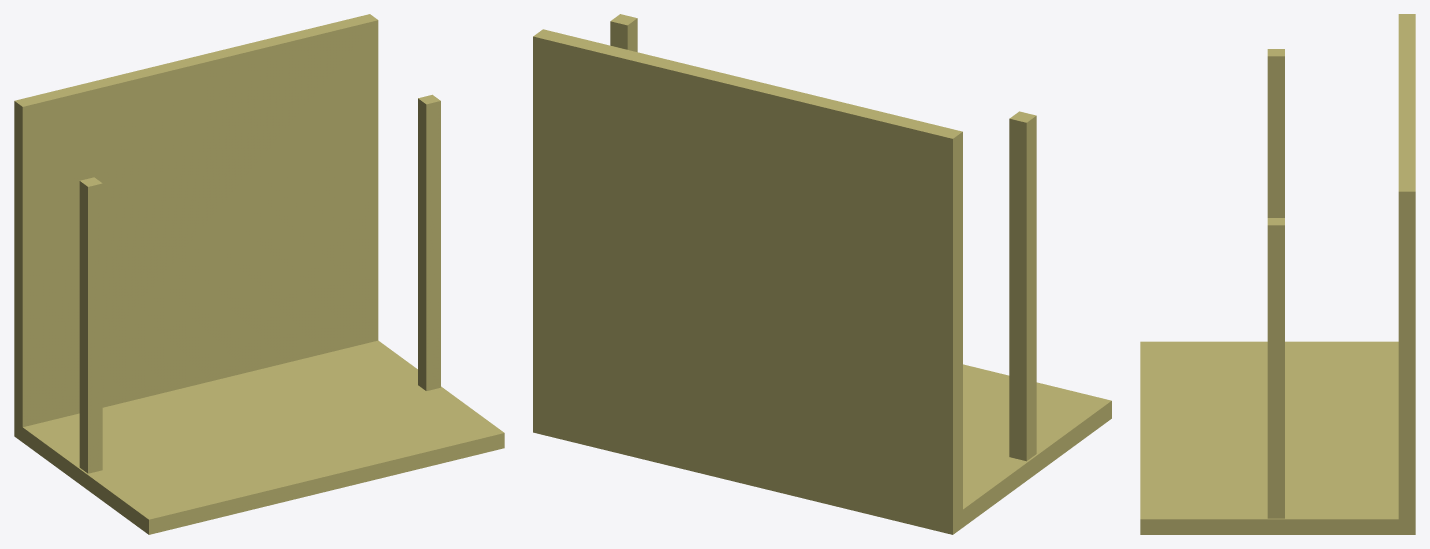
Rendered from barricade_mojo.glb.
The picture shows the model from 3 angles, left to right: view 1: azimuth 30°, elevation 25°; view 2: azimuth 150°, elevation 25°; view 3: azimuth 270°, elevation 25°; orthographic projection. The views are drawn at different scales.
Visible parts, largest first — view 1: barricade_mojo; view 2: barricade_mojo; view 3: barricade_mojo.
Boxes of the visible parts, x1,y1,x2,y2 form: barricade_mojo: [14, 14, 504, 534]; barricade_mojo: [533, 14, 1111, 534]; barricade_mojo: [1140, 14, 1415, 534].
Size of what is drawn, in the model's own units: 1.22 by 1.1 by 0.8.
